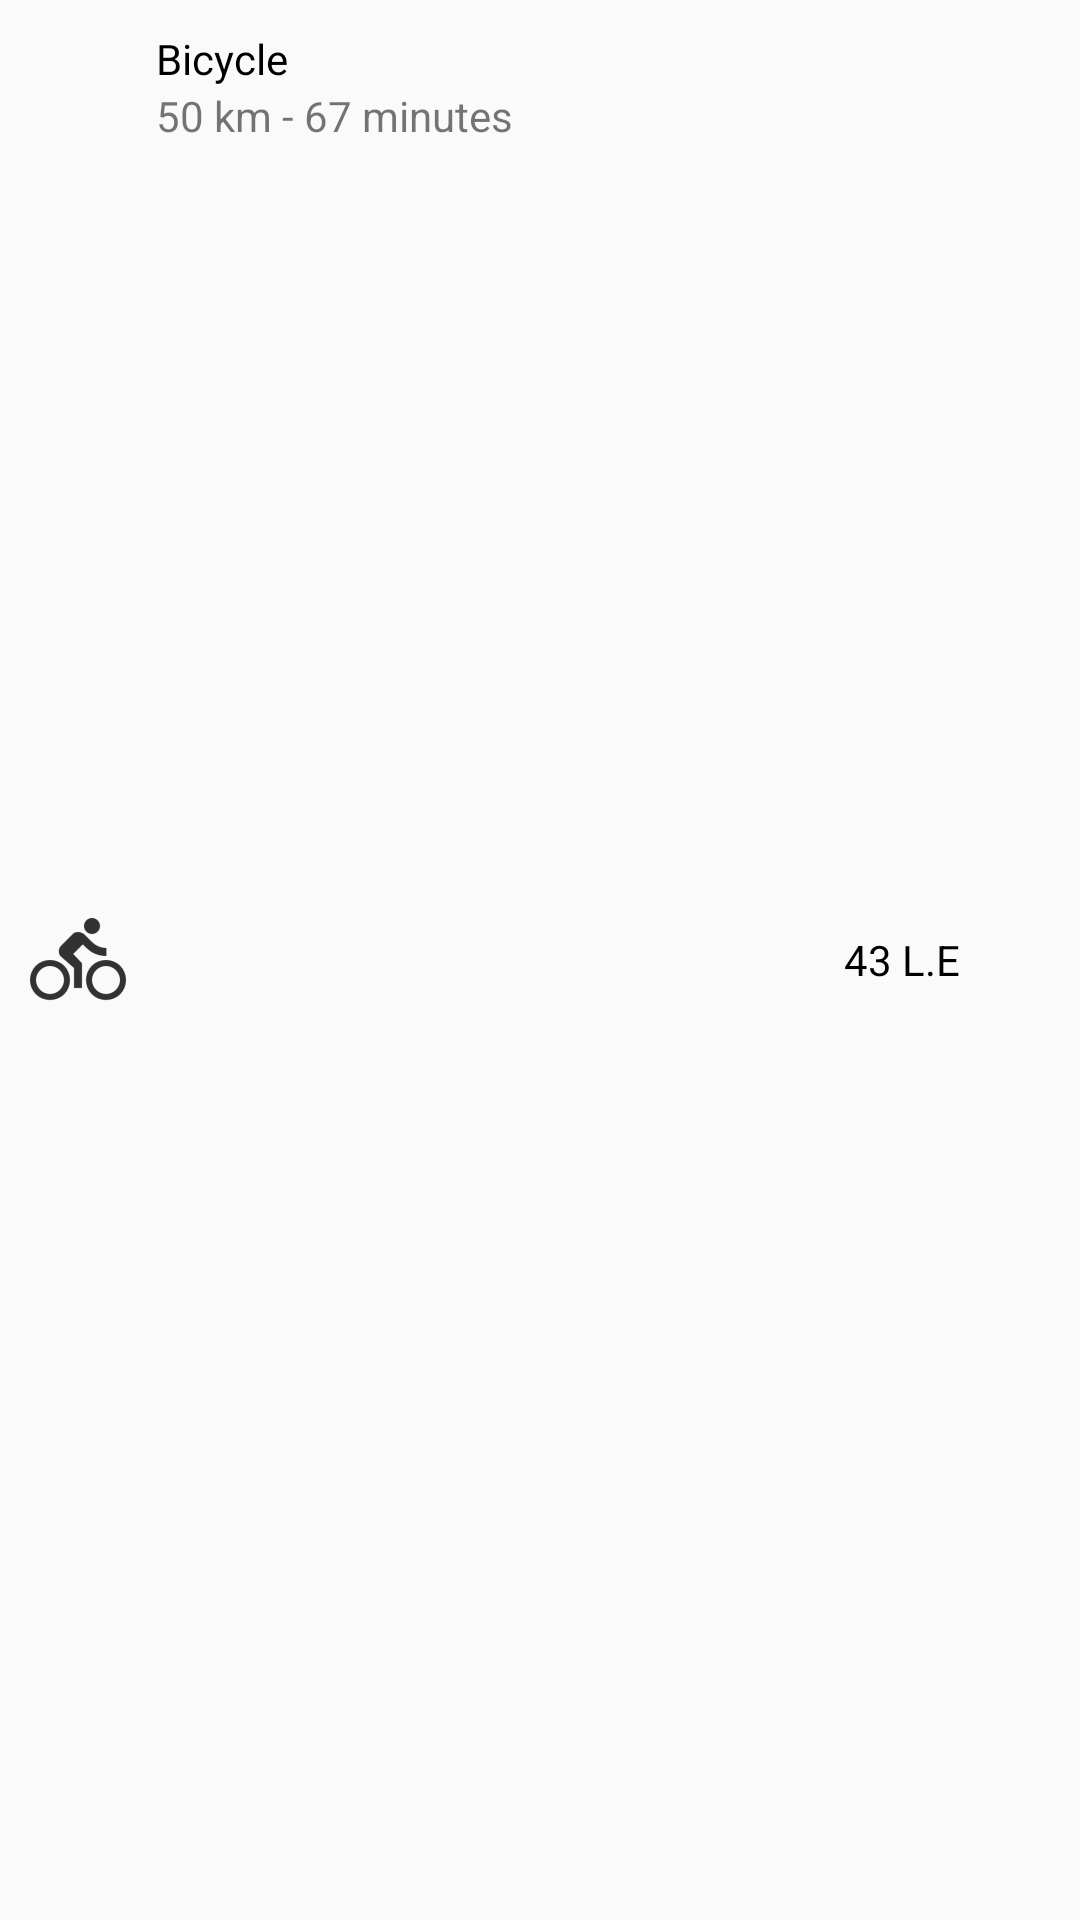

Icons on this 1080px x 1920px Android screen, each with its box as (x1, y1, x2, y2):
bike: (30, 918, 126, 1000)
